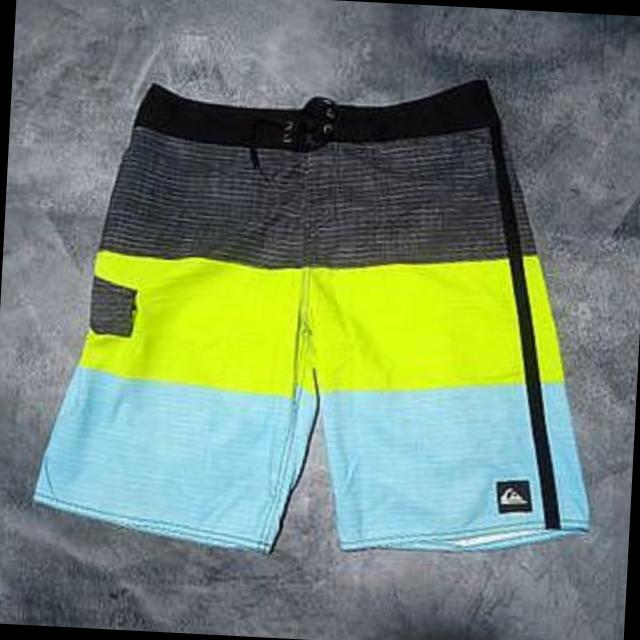SHORT: (24, 45, 626, 579)
